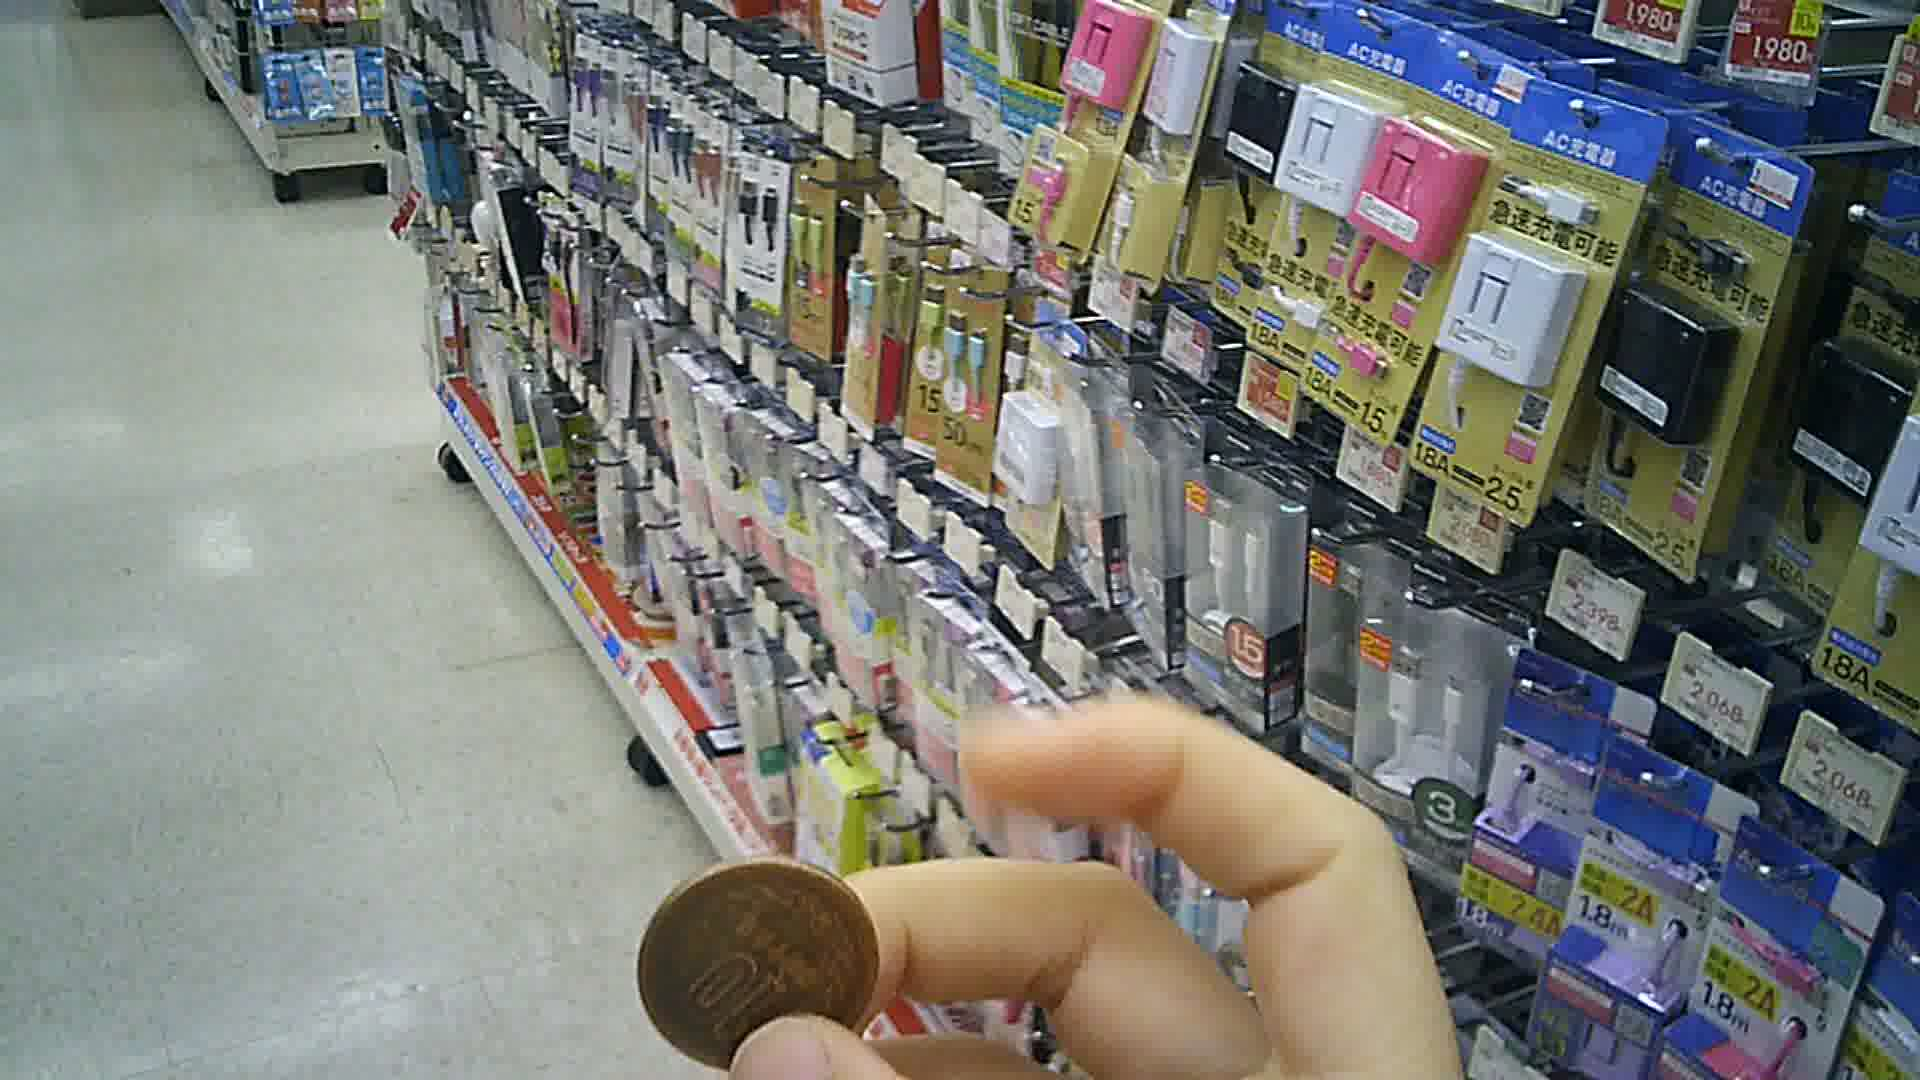10 Yen: (626, 847, 882, 1060)
